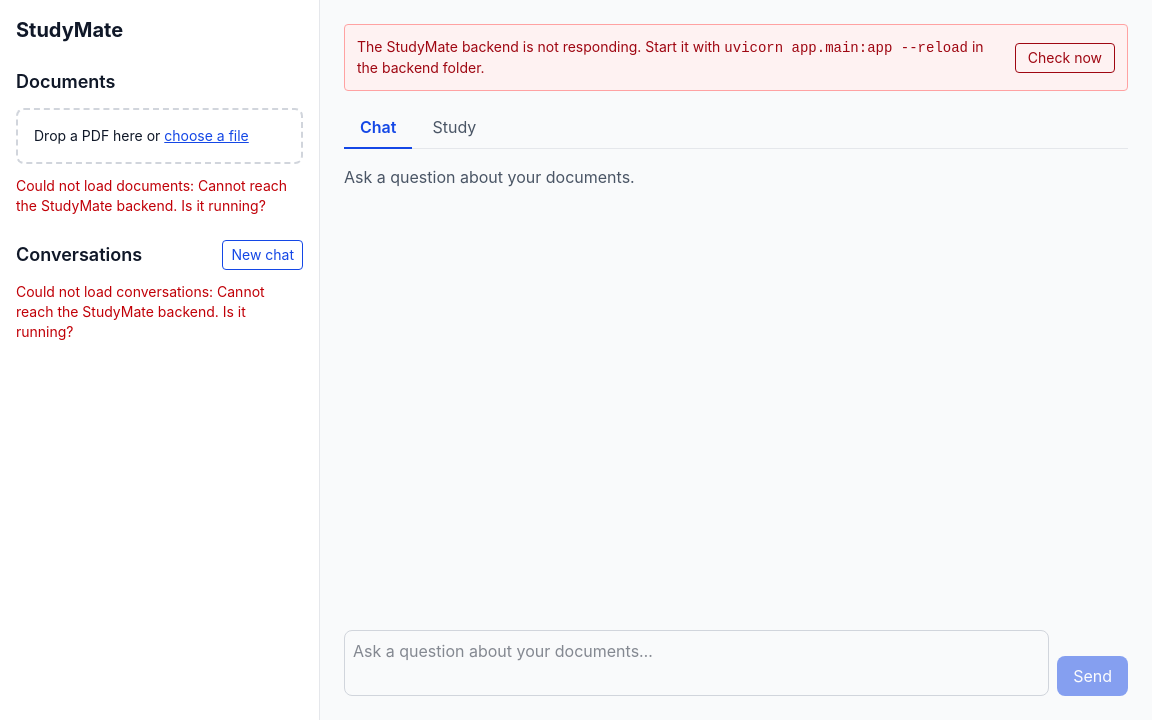
Scenario: App › reloads the lists when the backend comes back
Expected: the text "Could not load documents: Cannot reach the StudyMate backend. Is it running?" is shown, [16,176,303,216]
What coordinates should you click on to do the following:
click the button "Check now"
I would click on:
 (1065, 58)
Its box is [1015,42,1115,72].
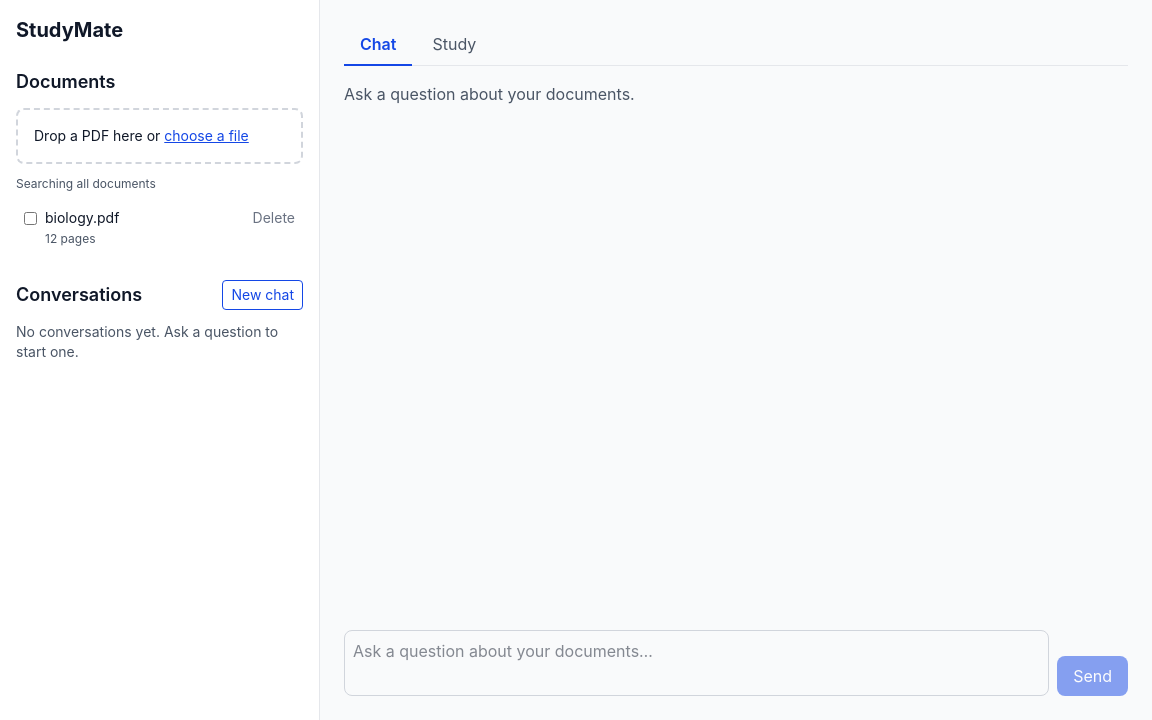
Expected: the text "biology.pdf" is shown, [45,209,119,226]
Expected: the text "backend is not responding" is gone
